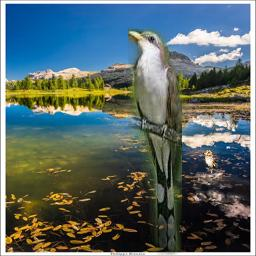Cuckoo: (128, 29, 182, 255)
Sparrow: (204, 150, 219, 175)
